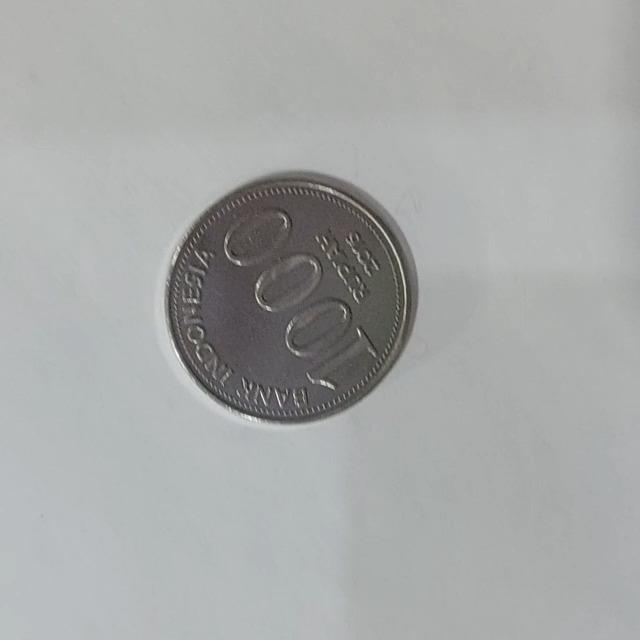Rp100: (162, 169, 419, 425)
